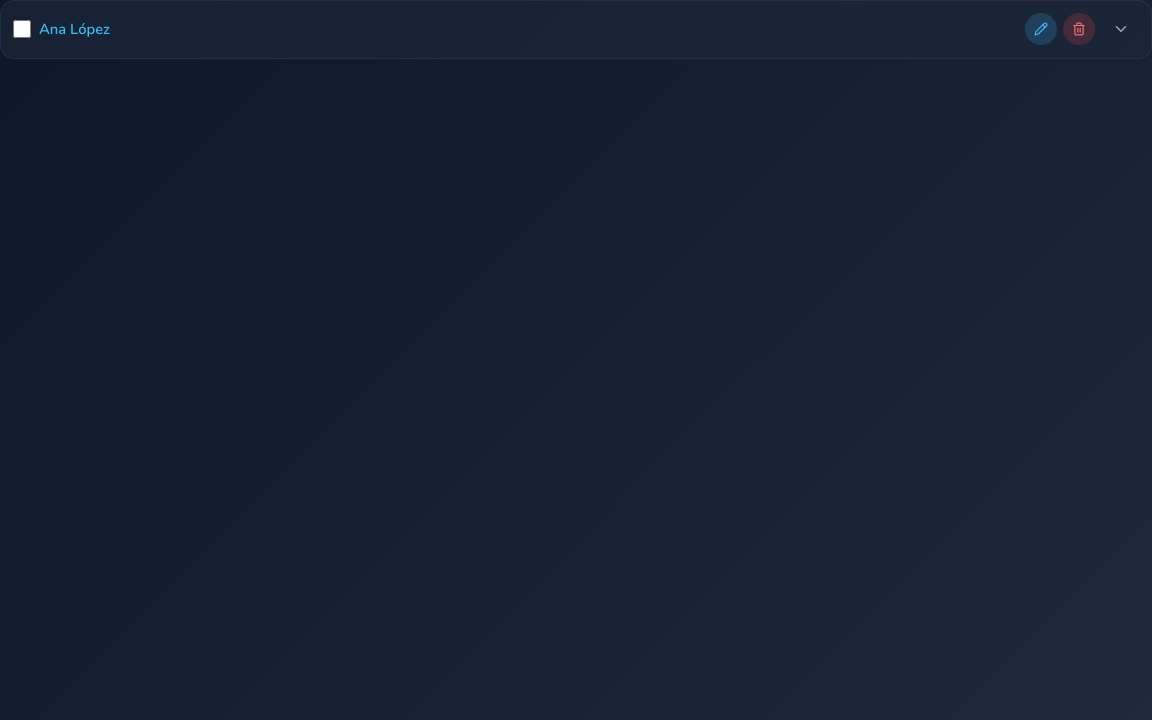
Test: MobileKidsCard › expands the body when the toggle is clicked
Click the button named "expandir detalles" at (1121,29), box [1103,11,1139,47]
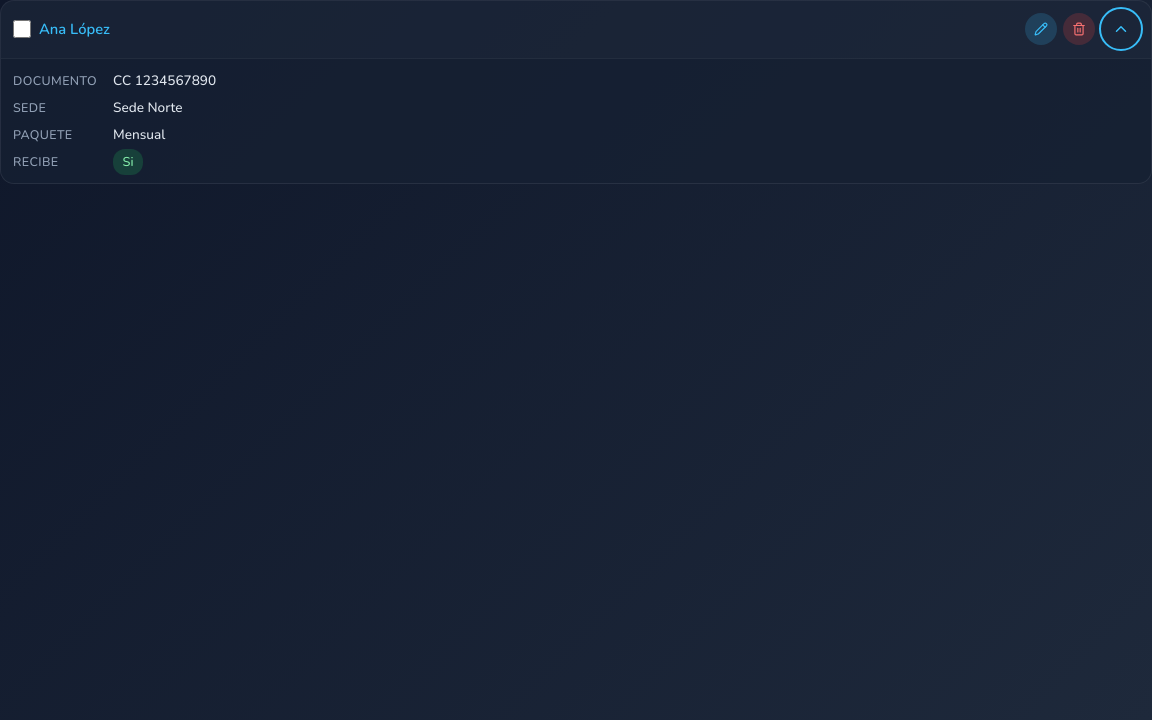
expect the text "Sede Norte" is shown: met, box [113,98,183,117]
expect the text "Mensual" is shown: met, box [113,125,165,144]
expect the text "Recibe" is shown: met, box [13,153,58,170]
